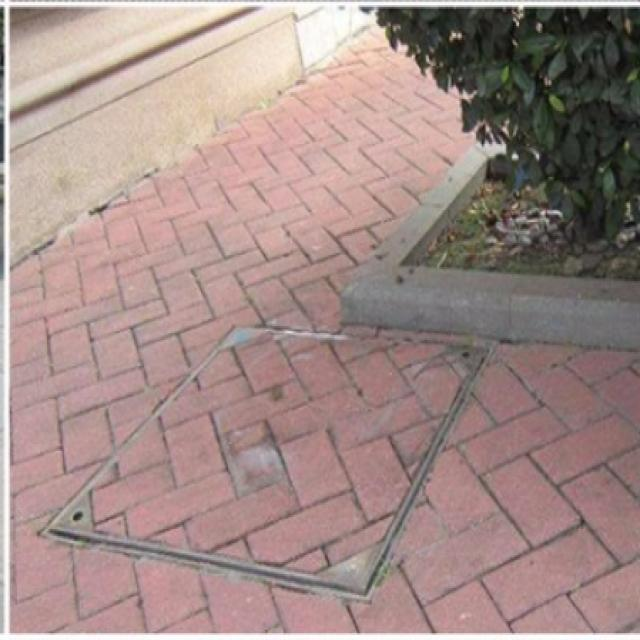manhole: (40, 324, 496, 602)
